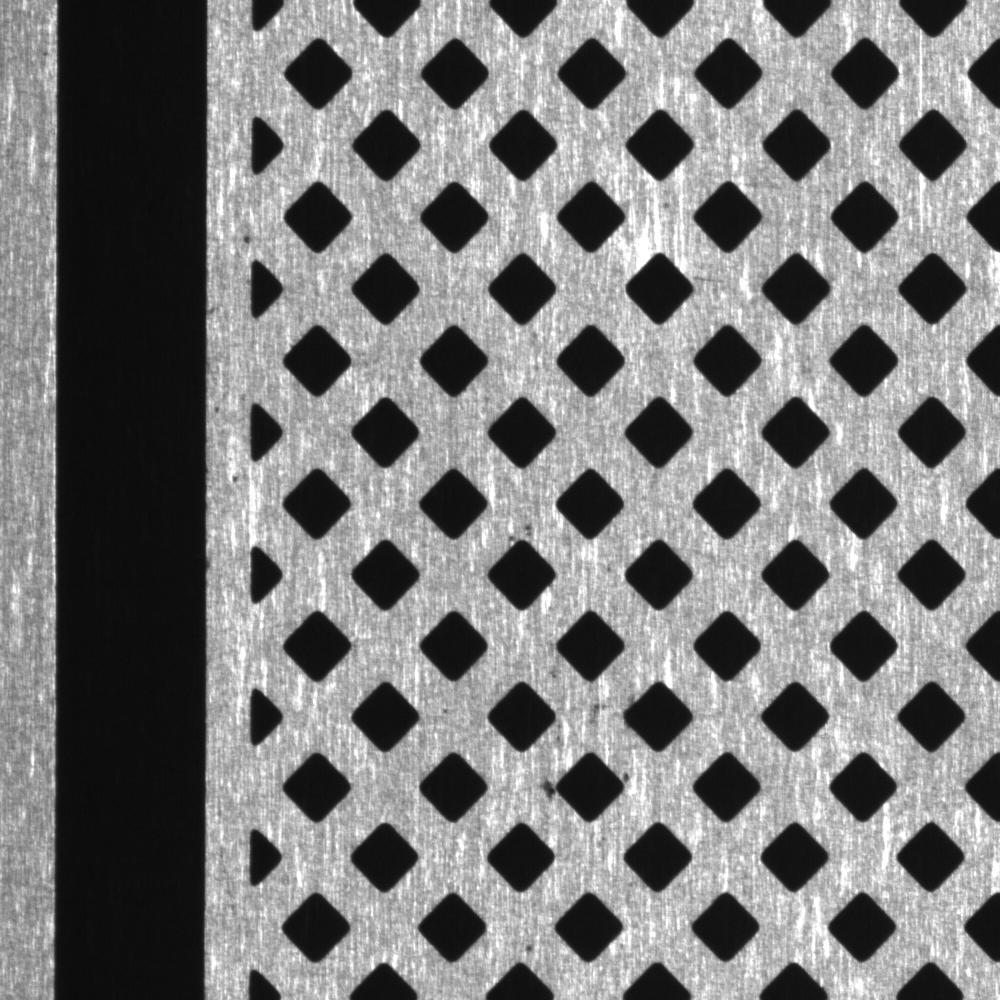Etching: (553, 677, 624, 753), (502, 509, 546, 552), (528, 762, 567, 809)
Pinhole: (515, 931, 547, 963)
